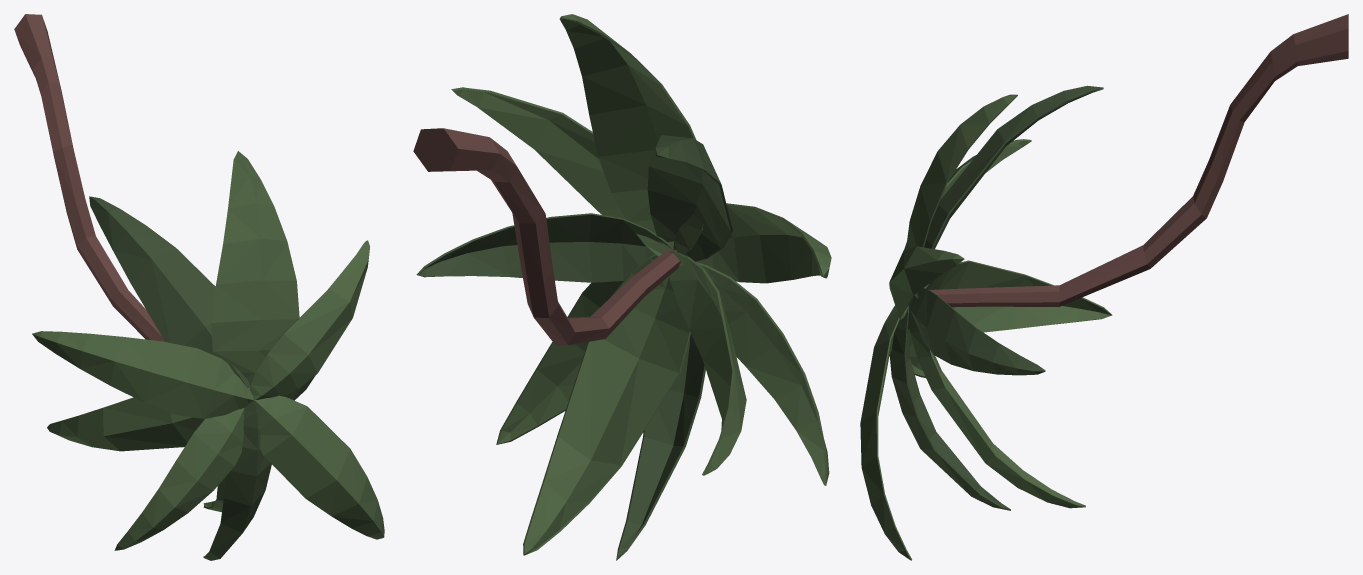
File: tree-palm-2-42-ft.obj
The picture shows the model from 3 angles, left to right: view 1: azimuth 30°, elevation 25°; view 2: azimuth 150°, elevation 25°; view 3: azimuth 270°, elevation 25°; orthographic projection. The views are drawn at different scales.
Visible parts, largest first — view 1: tree-palm-2-42-ft; view 2: tree-palm-2-42-ft; view 3: tree-palm-2-42-ft.
Part boxes in pixels (x1,y1,x2,y2): tree-palm-2-42-ft: (14, 14, 384, 560); tree-palm-2-42-ft: (413, 14, 831, 560); tree-palm-2-42-ft: (860, 14, 1348, 560).
Bounding box in the file's own units: 402 × 551 × 504.
